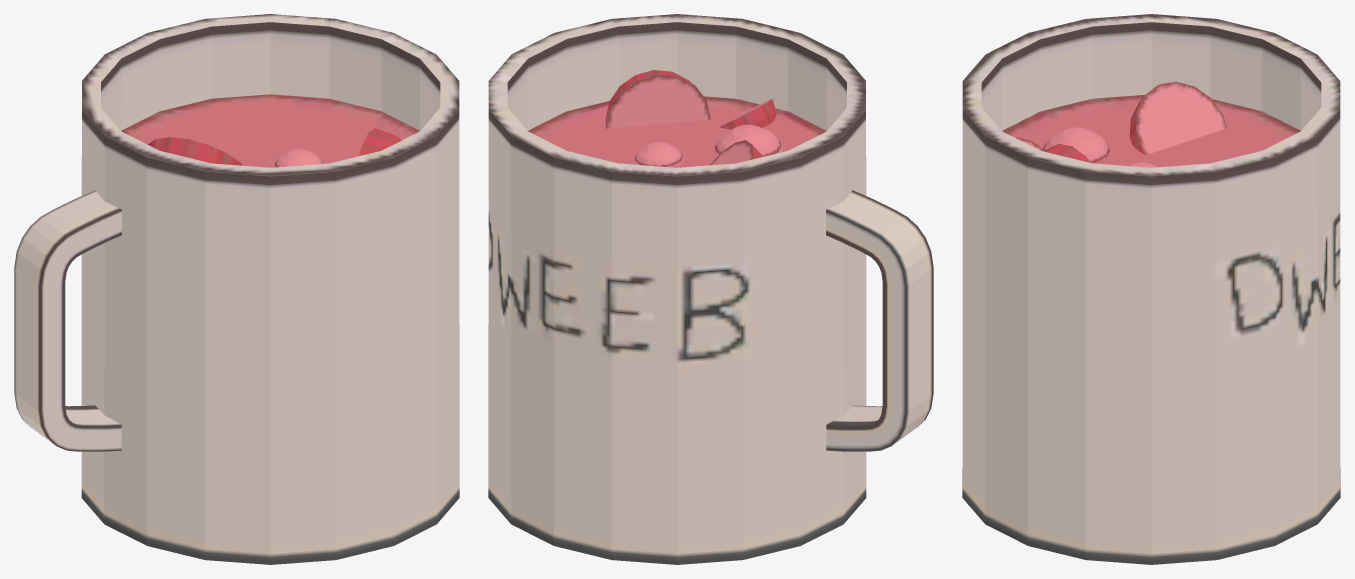
The model's file is DweebCup.glb.
The picture shows the model from 3 angles, left to right: view 1: azimuth 30°, elevation 25°; view 2: azimuth 150°, elevation 25°; view 3: azimuth 270°, elevation 25°; orthographic projection.
Visible parts, largest first — view 1: DweebCup; view 2: DweebCup; view 3: DweebCup.
Boxes of the visible parts, left/top/right/bottom form: DweebCup: left=14, top=14, right=459, bottom=564; DweebCup: left=488, top=14, right=933, bottom=564; DweebCup: left=962, top=14, right=1340, bottom=564.
Size of the model in its own units: 8.05 by 7.31 by 6.44.
1 material, 1 textured.
